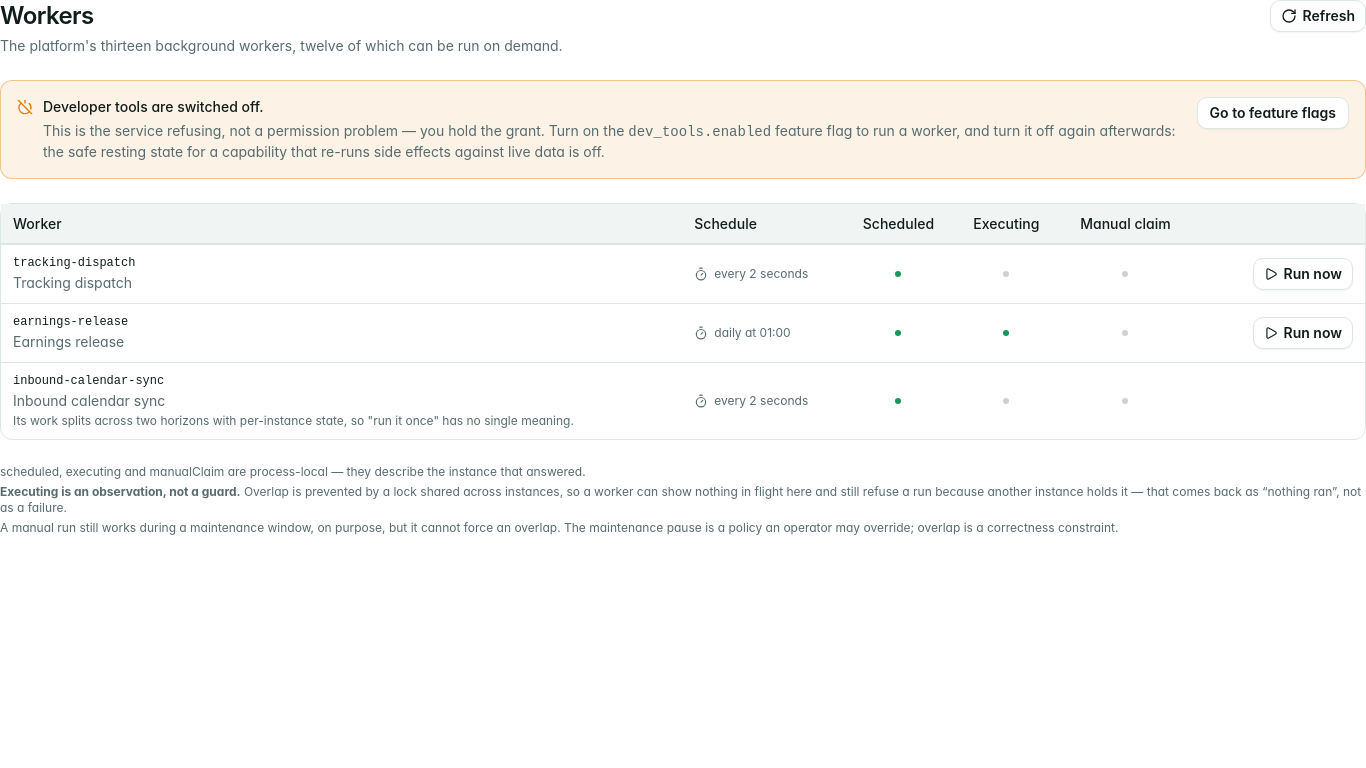
running a worker › reports a run when the response omits `ran` entirely
The image size is (1366, 768).
Expected: the text "tracking-dispatch" is shown, [13,256,135,270]
Click the button "Run now" in the row of "tracking-dispatch" at [1303, 274], box [1253,258,1353,290]
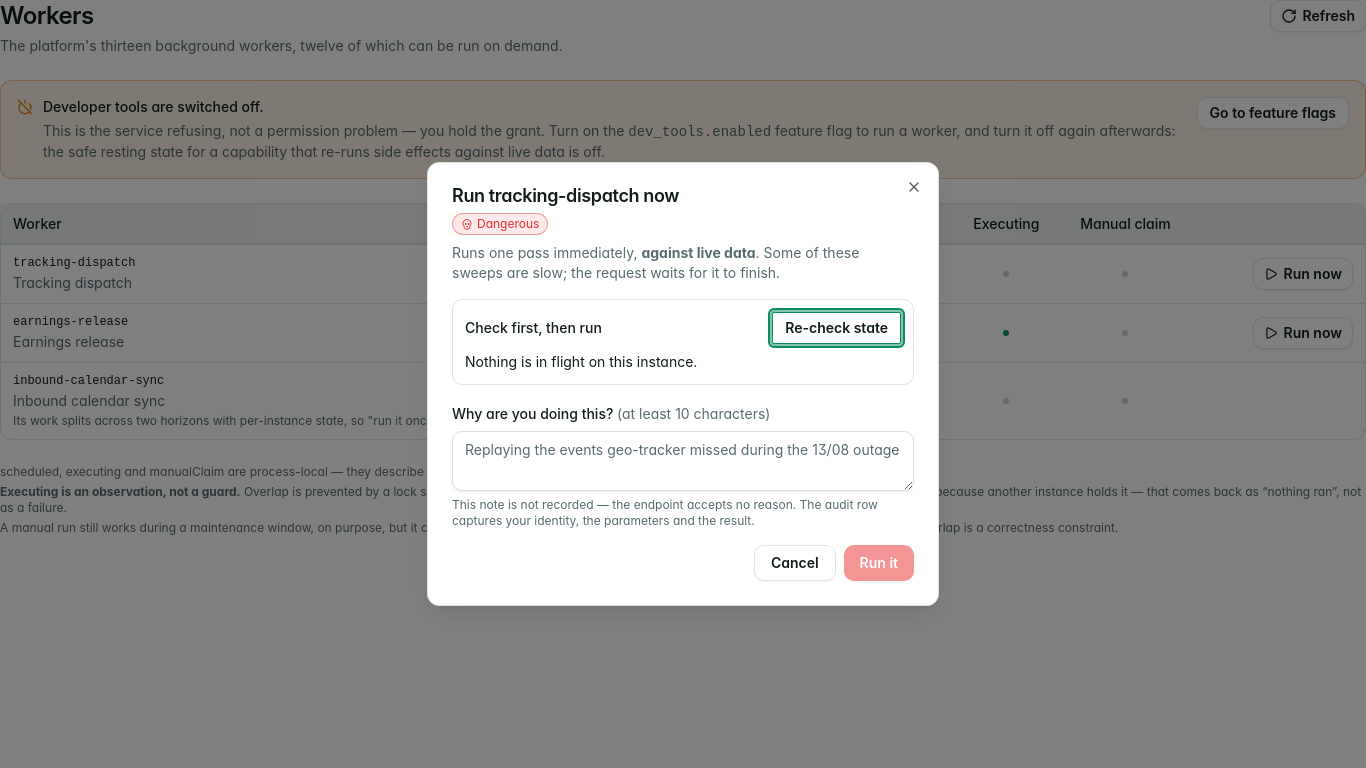
Type "Draining it" into the text box labelled "Why are you doing this? (at least 10 characters)" at [683, 461], box [452,431,914,491]
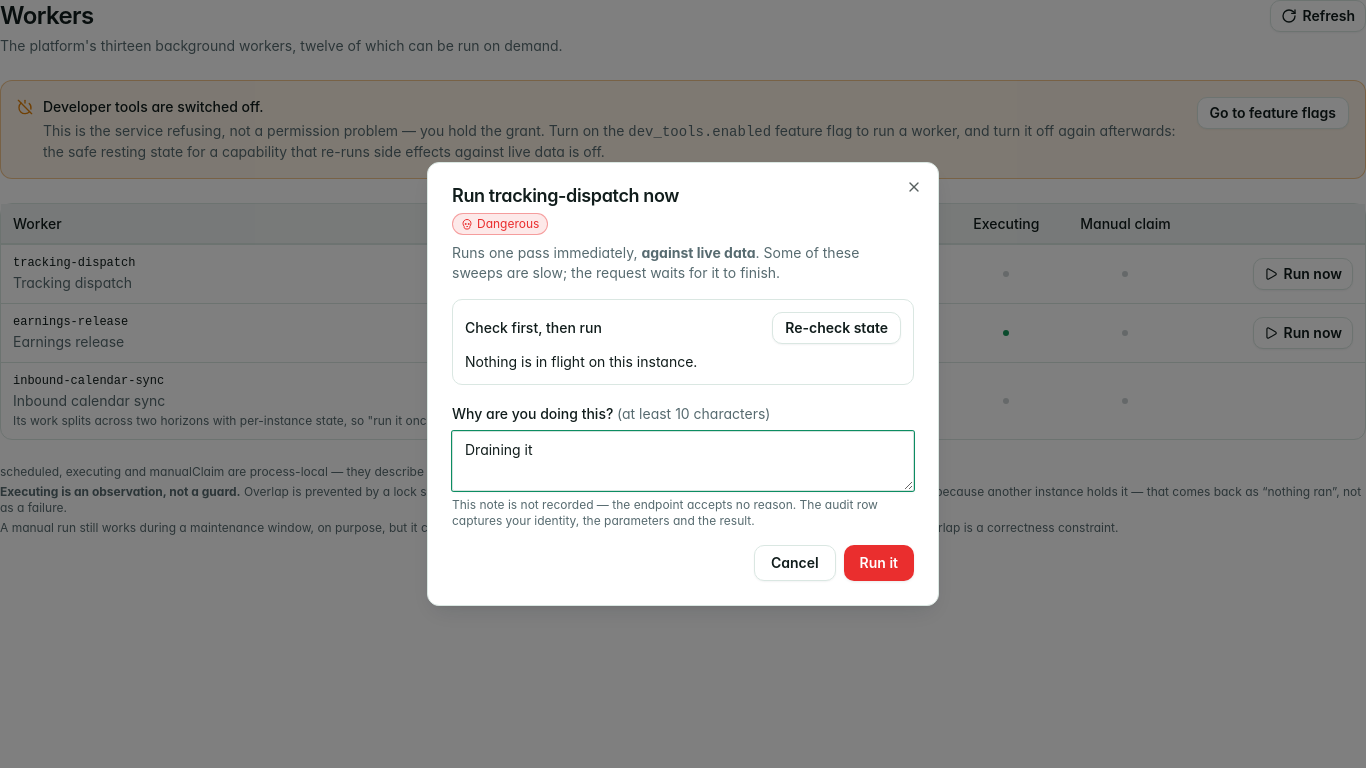
Click the button "Run it" at [879, 563], box [844,545,914,581]
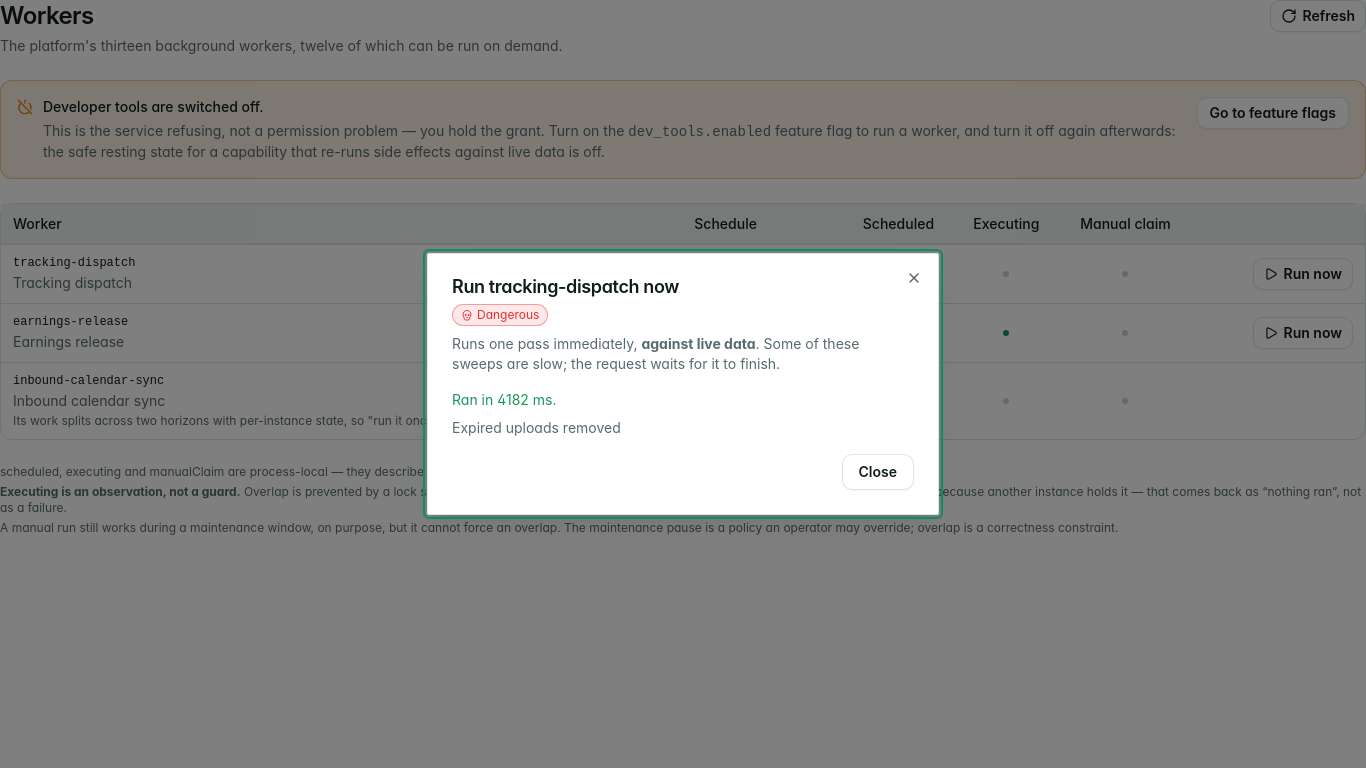
Result: the text "Ran in 4182 ms." is shown at [452,391,556,408]
